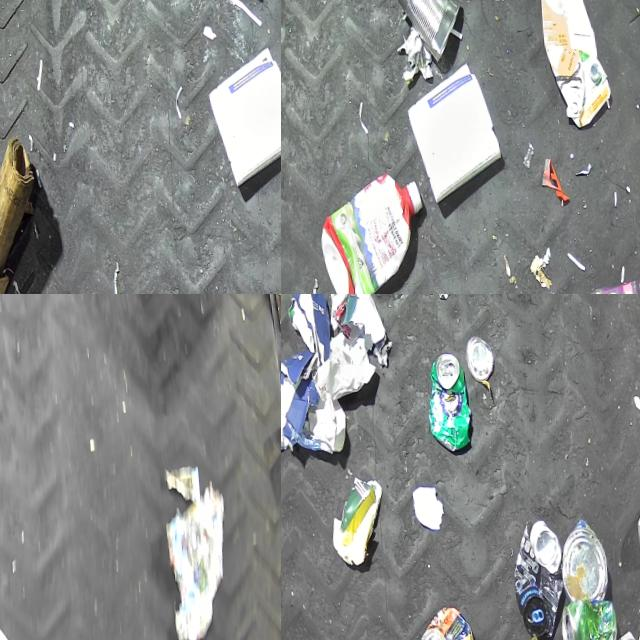can: (505, 518, 563, 637), (422, 350, 470, 451), (554, 516, 606, 599), (395, 0, 464, 62), (552, 596, 611, 640), (410, 604, 470, 640), (464, 335, 494, 380), (630, 488, 640, 559)
non_white_jug: (313, 170, 425, 294), (539, 0, 611, 129)
